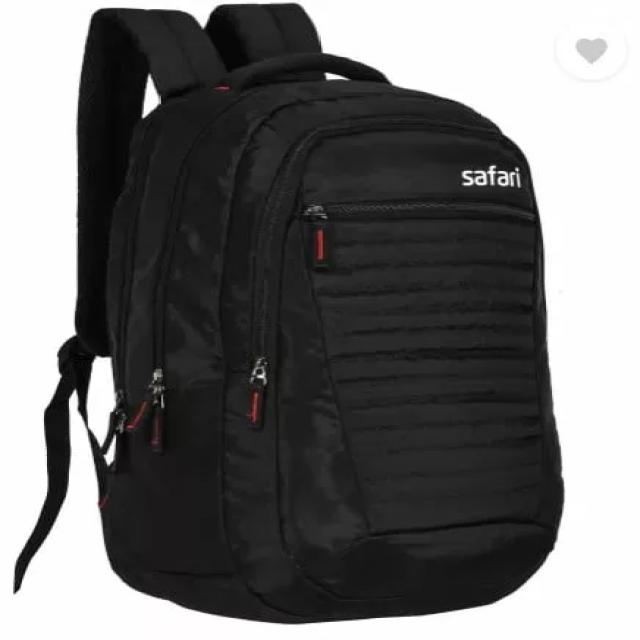backpack: (11, 0, 565, 624)
